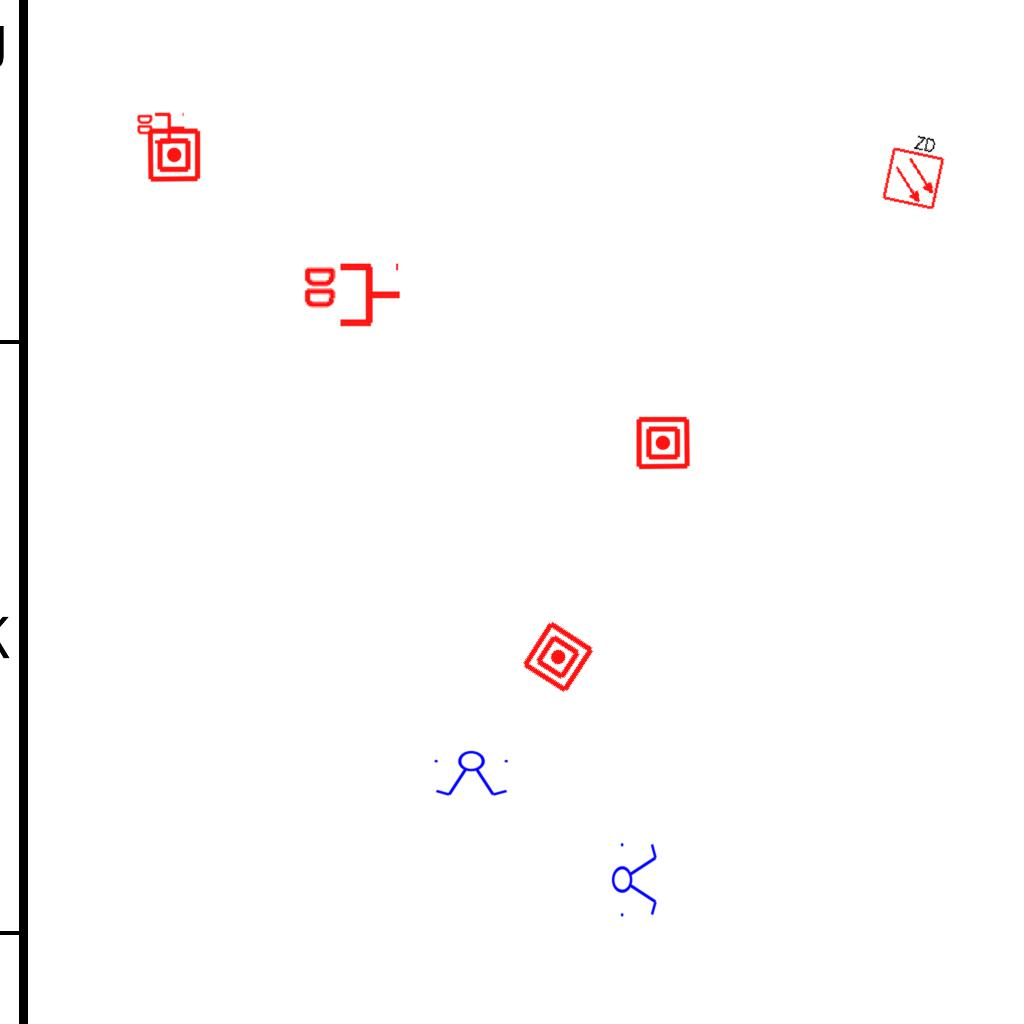Datenanschluss_zweifach: (300, 262, 403, 331), (135, 112, 186, 146)
NAM-Nichtautomatischer_Melder: (519, 618, 597, 696), (635, 415, 691, 471), (146, 127, 202, 183)
Serienschalter: (611, 837, 659, 921), (430, 750, 514, 798)
ZD_Melder_in_Zwischendecke_mit_Revisionsoeffnung_mind_40_x_40_cm: (878, 126, 951, 212)
